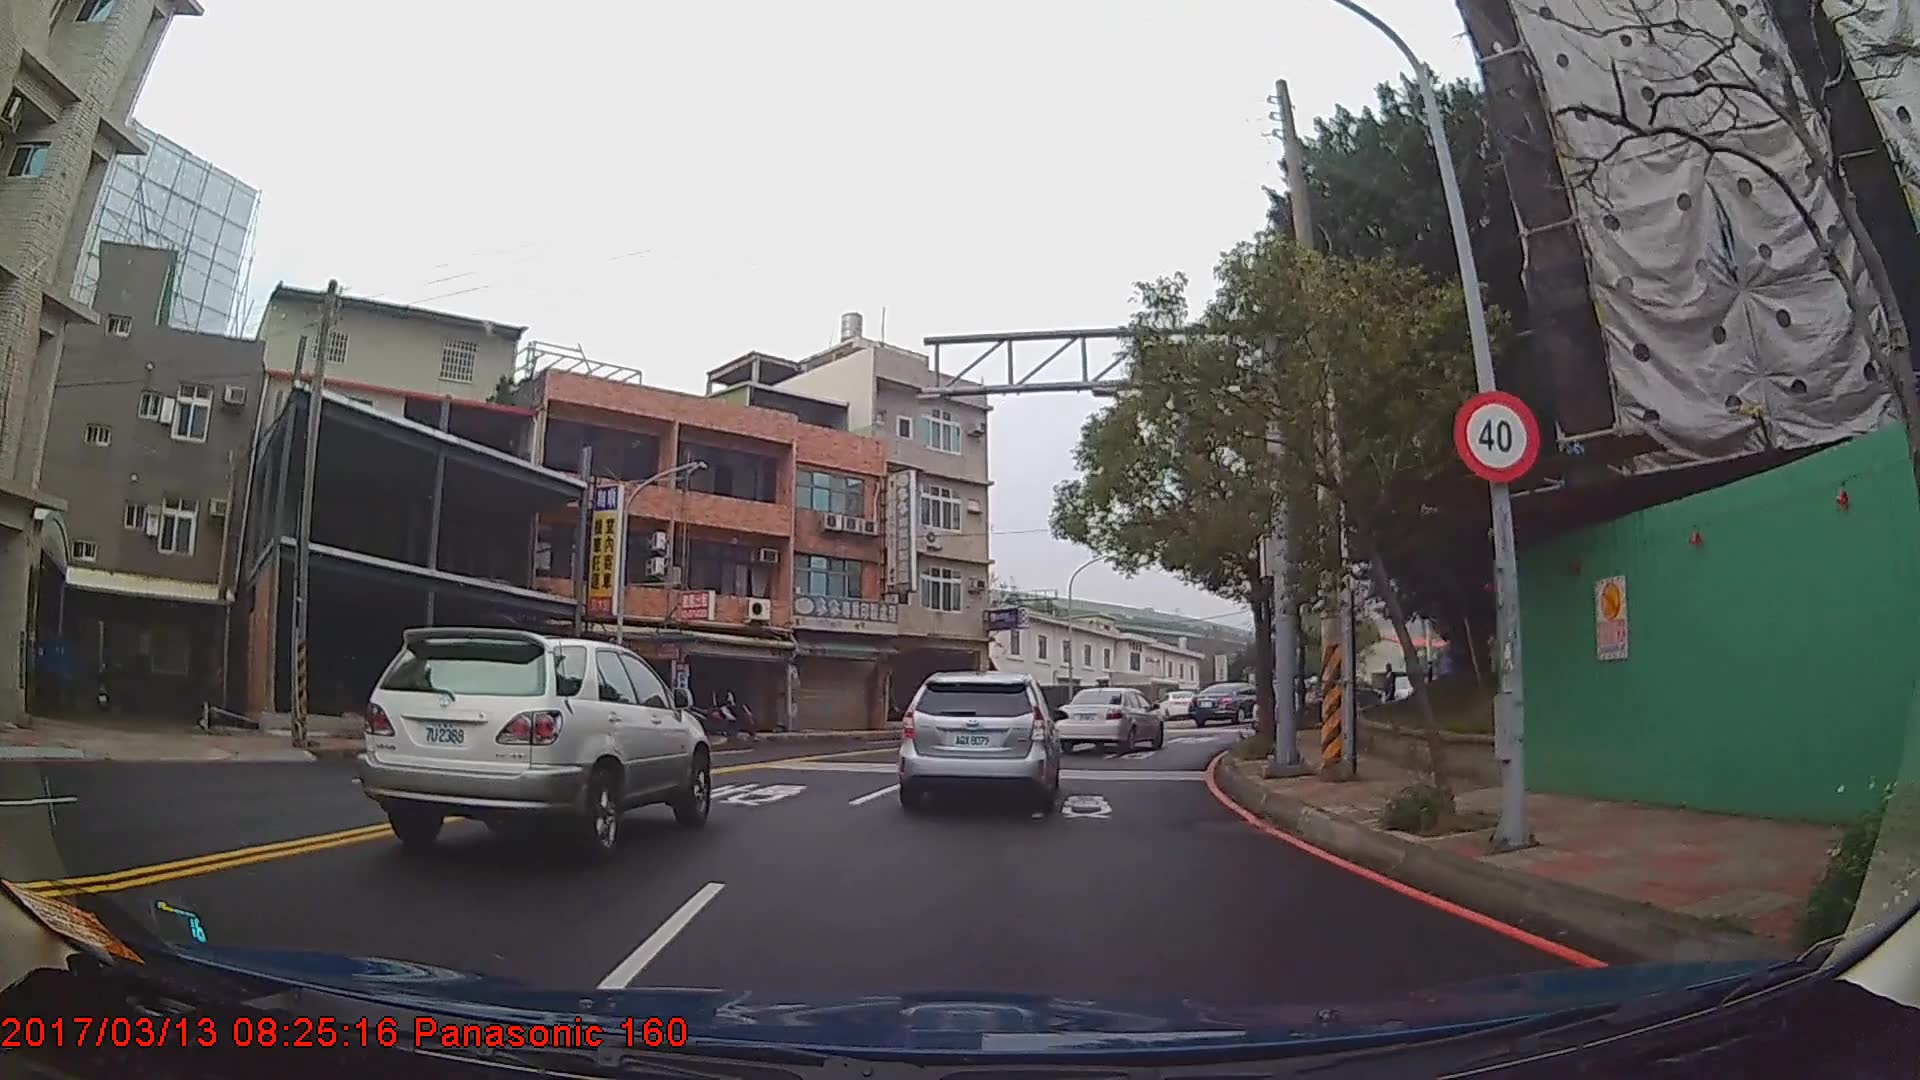vehicle: (356, 624, 712, 857), (898, 669, 1062, 812), (1054, 686, 1164, 752), (1185, 680, 1269, 727)
